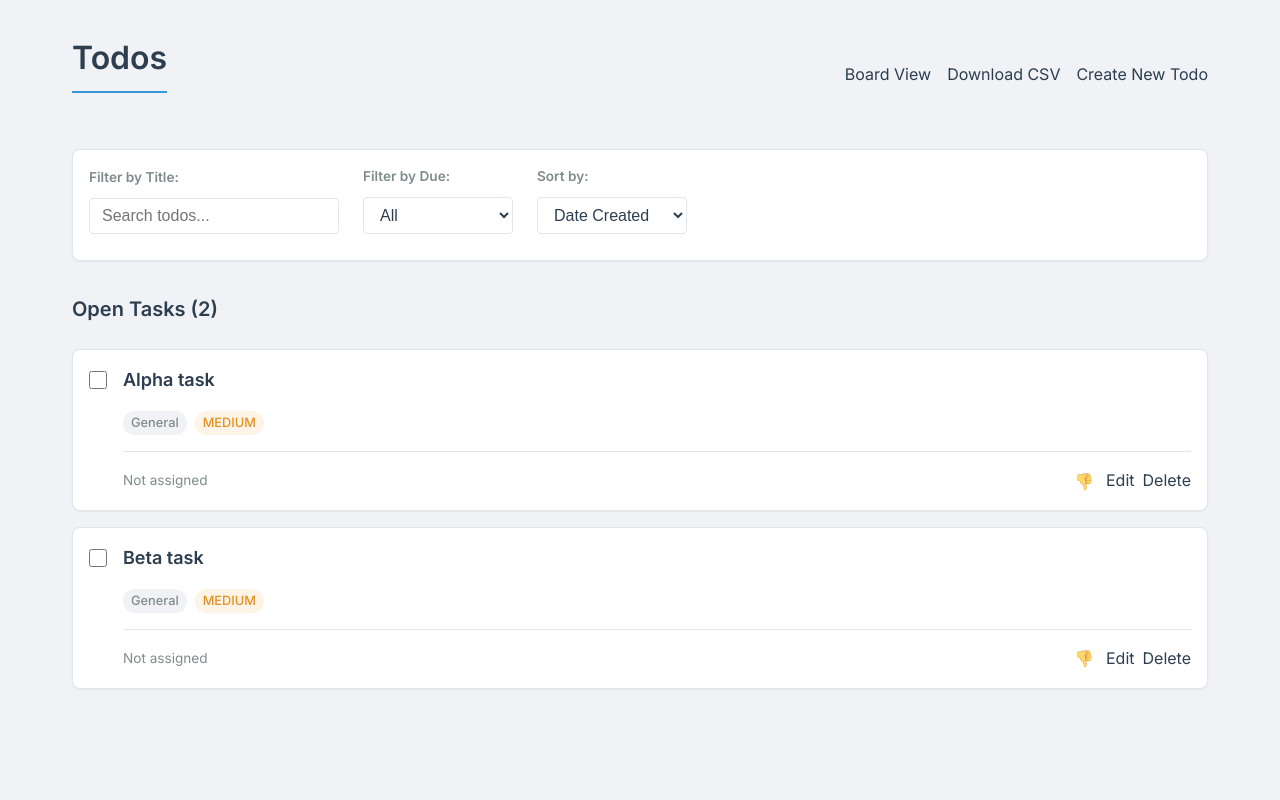
TodosView › narrows the list through the title filter
The image size is (1280, 800).
Step 1. Type "alpha" into the field with placeholder "Search todos..." → {"x": 214, "y": 216}, box x1=89 y1=198 x2=339 y2=234
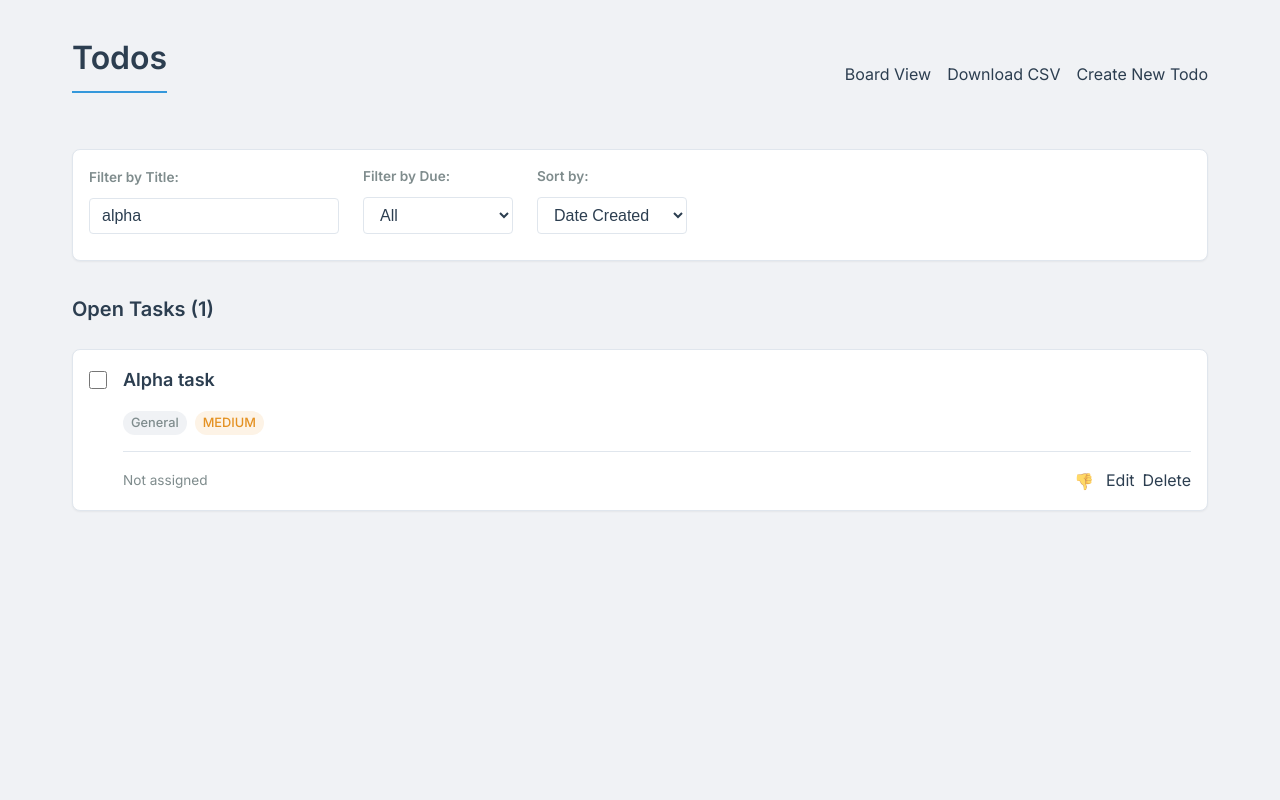
Check: the text "Alpha task" is shown, box x1=123 y1=369 x2=215 y2=390
Check: the text "Beta task" is gone
